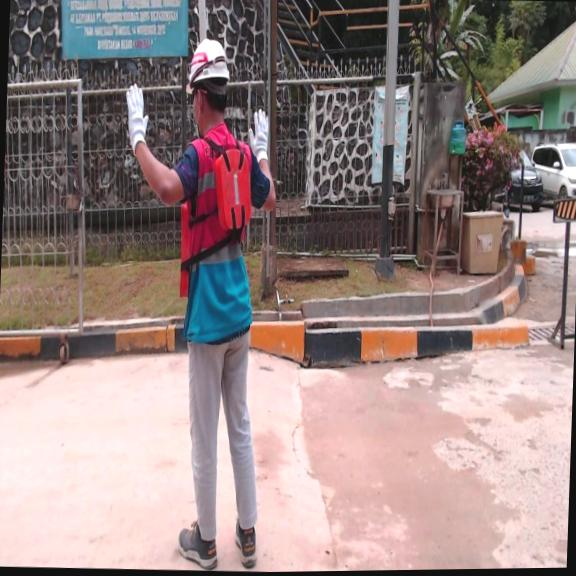safety_vest: (207, 143, 256, 241)
